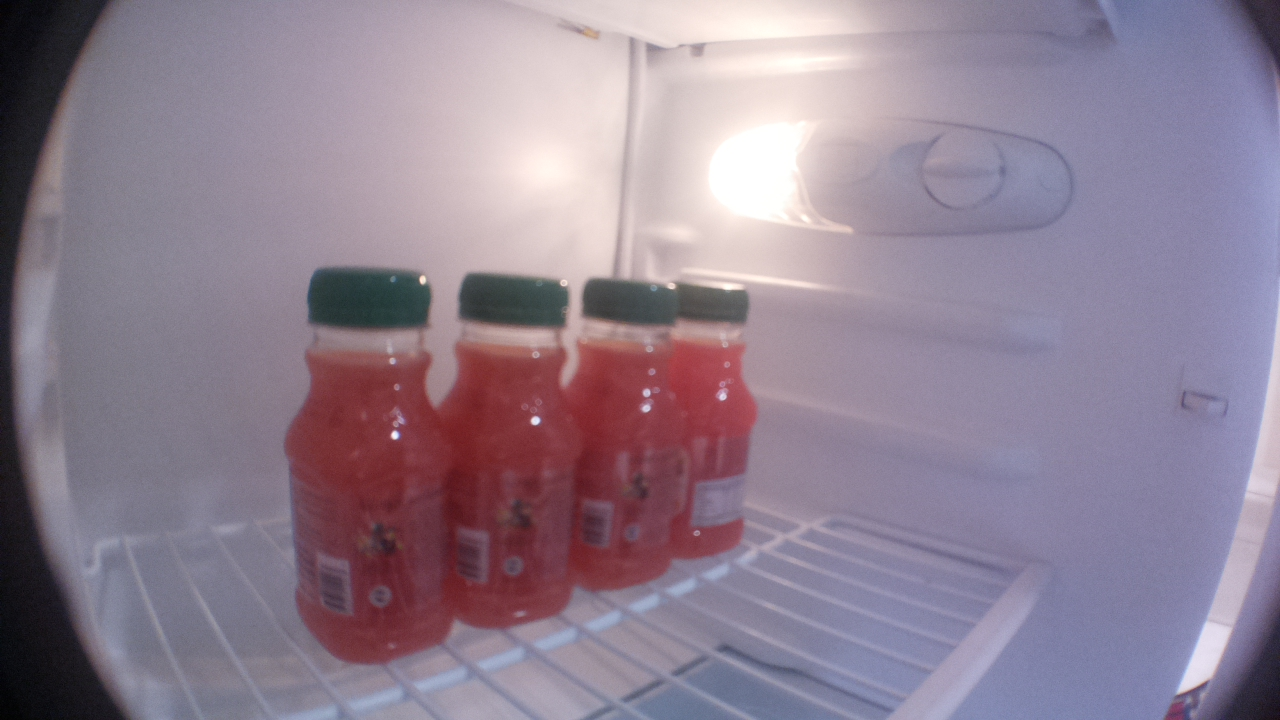juice: (281, 261, 453, 669), (448, 269, 579, 630), (574, 273, 682, 592), (680, 276, 760, 568)
